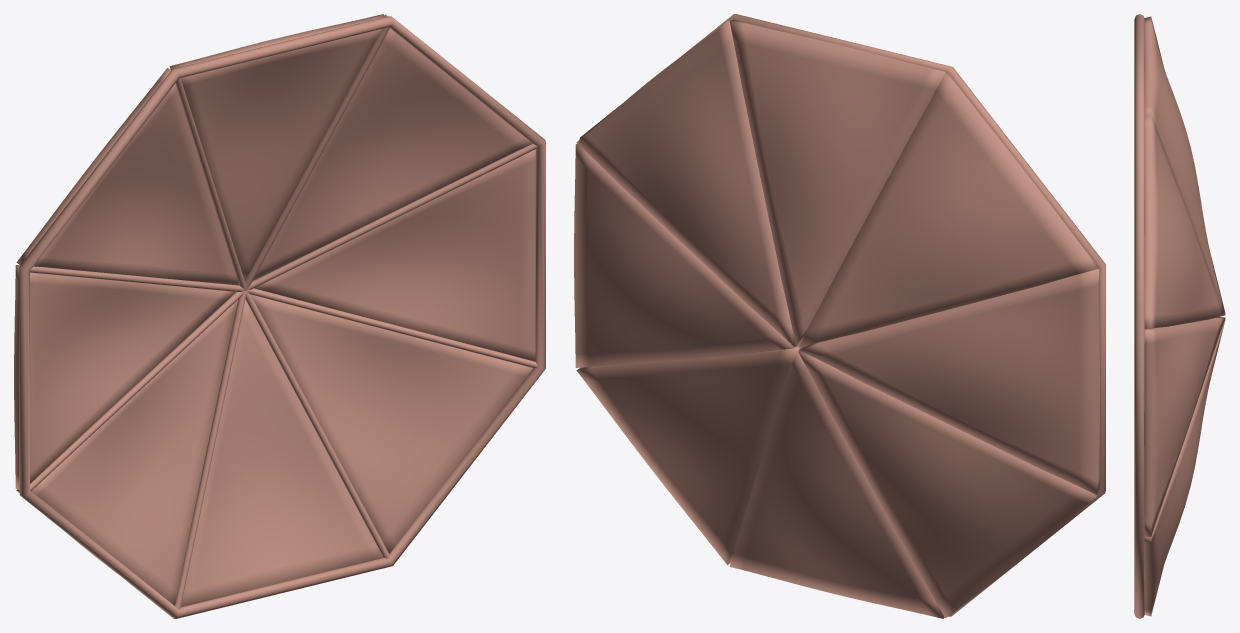
File: facet-copper.glb
The picture shows the model from 3 angles, left to right: view 1: azimuth 30°, elevation 25°; view 2: azimuth 150°, elevation 25°; view 3: azimuth 270°, elevation 25°; orthographic projection. The views are drawn at different scales.
Visible parts, largest first — view 1: Pressed concave facet 6.001, Pressed concave facet 7.001, Pressed concave facet 5.001, Pressed concave facet 0.001, Pressed concave facet 4.001, Pressed concave facet 1.001, Pressed concave facet 3.001, Pressed concave facet 2.001, Octagonal frame.001, Structural fold.013, Structural fold.008, Structural fold.015 (+5 smaller); view 2: Pressed concave facet 2.001, Pressed concave facet 3.001, Pressed concave facet 1.001, Pressed concave facet 4.001, Pressed concave facet 0.001, Pressed concave facet 5.001, Pressed concave facet 7.001, Pressed concave facet 6.001, Octagonal frame.001; view 3: Pressed concave facet 0.001, Pressed concave facet 7.001, Octagonal frame.001, Pressed concave facet 1.001, Pressed concave facet 6.001, Pressed concave facet 2.001.
Part boxes in pixels (x1,y1,x2,y2): Pressed concave facet 6.001: [251, 295, 533, 553]; Pressed concave facet 7.001: [254, 149, 535, 361]; Pressed concave facet 5.001: [181, 299, 383, 607]; Pressed concave facet 0.001: [252, 14, 532, 280]; Pressed concave facet 4.001: [16, 300, 237, 605]; Pressed concave facet 1.001: [169, 14, 385, 279]; Pressed concave facet 3.001: [14, 265, 235, 489]; Pressed concave facet 2.001: [16, 67, 239, 285]; Octagonal frame.001: [19, 16, 545, 618]; Structural fold.013: [175, 291, 245, 609]; Structural fold.008: [246, 144, 537, 290]; Structural fold.015: [246, 288, 537, 367]; Pressed concave facet 2.001: [798, 73, 1098, 347]; Pressed concave facet 3.001: [799, 269, 1100, 494]; Pressed concave facet 1.001: [729, 20, 946, 346]; Pressed concave facet 4.001: [798, 350, 1097, 618]; Pressed concave facet 0.001: [576, 21, 795, 346]; Pressed concave facet 5.001: [729, 347, 944, 618]; Pressed concave facet 7.001: [574, 143, 798, 367]; Pressed concave facet 6.001: [576, 346, 799, 565]; Octagonal frame.001: [579, 14, 1105, 616]; Pressed concave facet 0.001: [1144, 114, 1225, 328]; Pressed concave facet 7.001: [1144, 317, 1225, 536]; Octagonal frame.001: [1134, 14, 1144, 618]; Pressed concave facet 1.001: [1144, 16, 1225, 313]; Pressed concave facet 6.001: [1144, 319, 1225, 616]; Pressed concave facet 2.001: [1164, 70, 1209, 248].
Size of the model in its own units: 1.88 by 1.88 by 0.3066.
